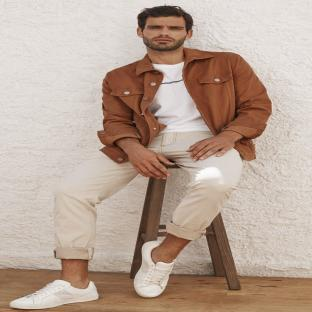Human: (10, 5, 271, 309)
